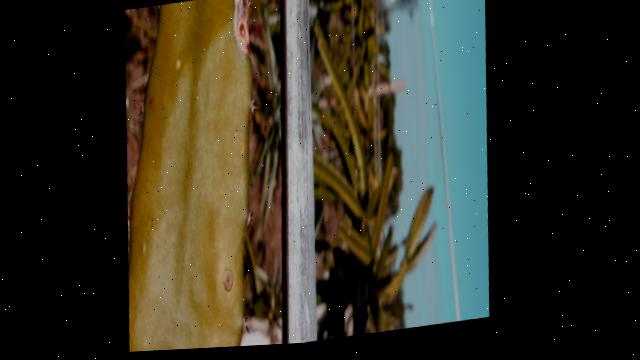stemcanker: (217, 265, 240, 300)
